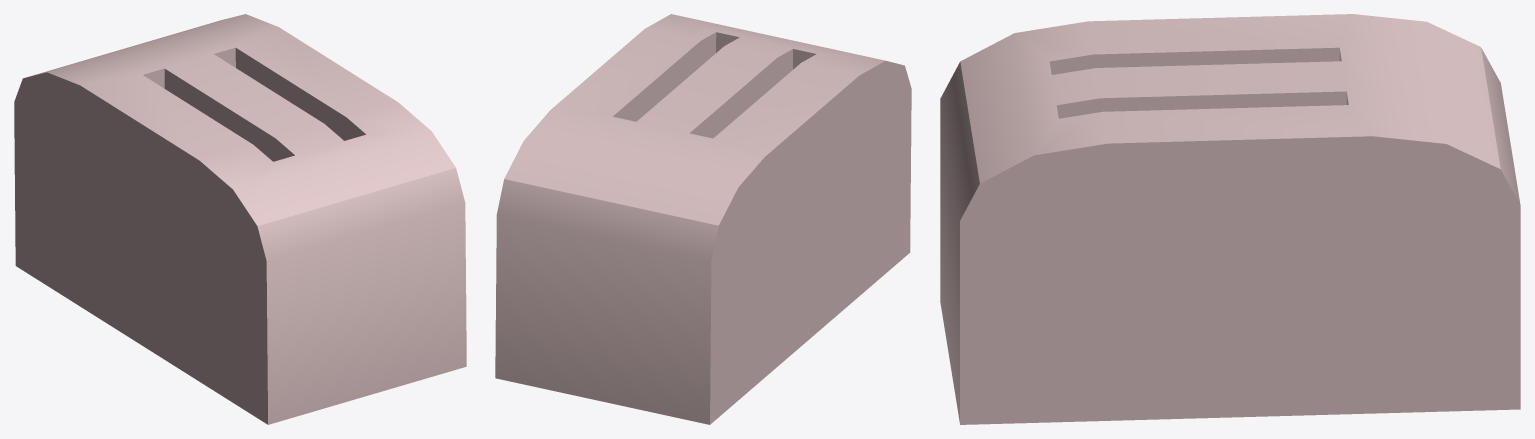
The model's file is pemangga roti.fbx.
3 views of the same model, side by side, from view 1: azimuth 30°, elevation 25°; view 2: azimuth 150°, elevation 25°; view 3: azimuth 270°, elevation 25° (orthographic). The views are drawn at different scales.
Parts seen in each view (by area): view 1: Cube.093; view 2: Cube.093; view 3: Cube.093.
Boxes of the visible parts, left/top/right/bottom form: Cube.093: left=14, top=14, right=466, bottom=424; Cube.093: left=495, top=14, right=911, bottom=424; Cube.093: left=940, top=14, right=1520, bottom=424.
Bounding box in the file's own units: 109 × 100 × 189.
